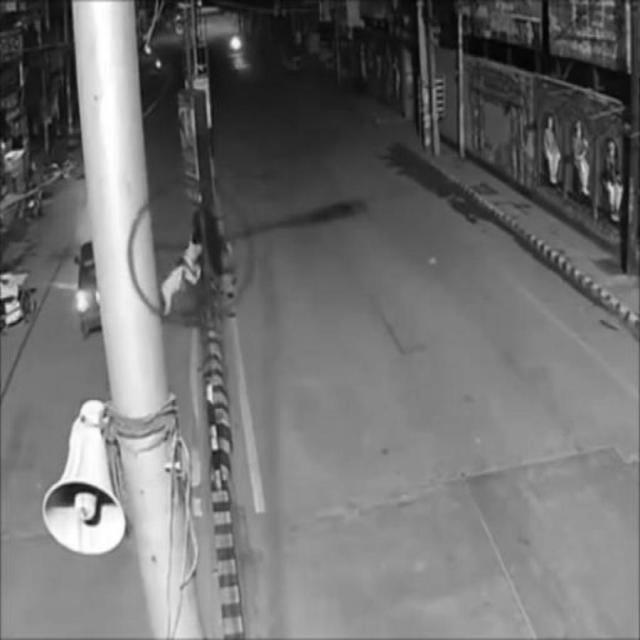vehicle: (71, 235, 126, 336)
